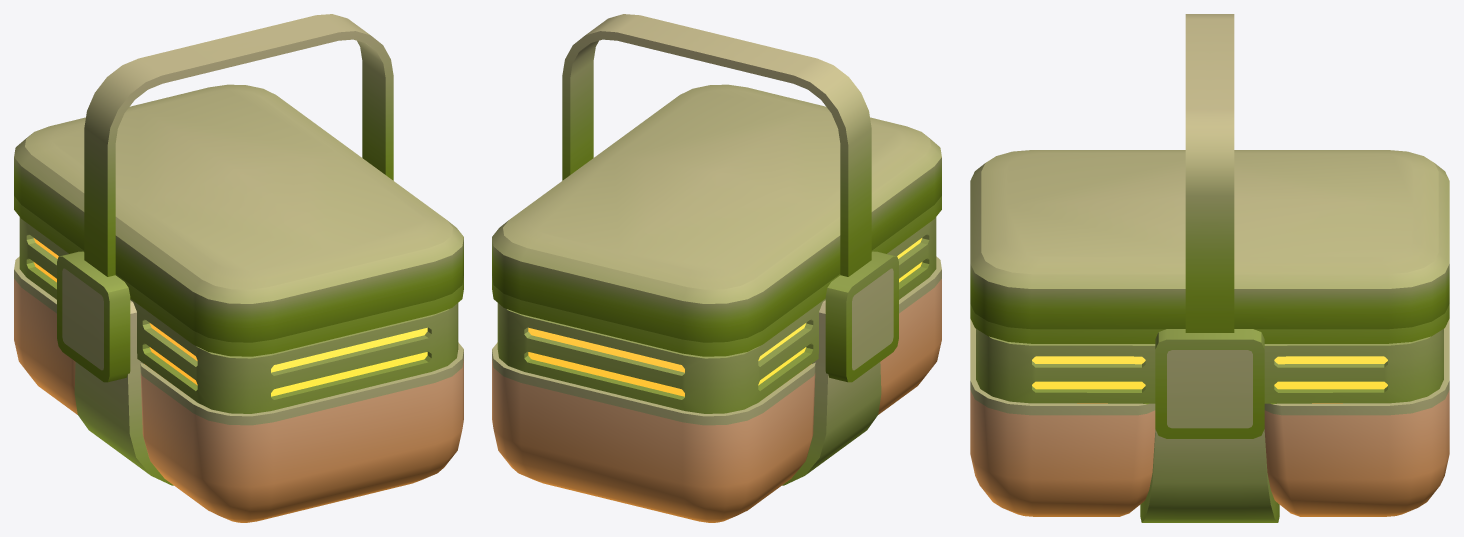
The model's file is basket_c.gltf.
3 renders of one model, left to right at view 1: azimuth 30°, elevation 25°; view 2: azimuth 150°, elevation 25°; view 3: azimuth 270°, elevation 25°, orthographic. The views are drawn at different scales.
Visible parts, largest first — view 1: basket_c; view 2: basket_c; view 3: basket_c.
Boxes of the visible parts, bbox=[...] form: basket_c: bbox=[14, 14, 463, 522]; basket_c: bbox=[492, 14, 941, 522]; basket_c: bbox=[970, 14, 1449, 522].
Bounding box in the file's own units: 0.6706 × 0.8159 × 0.8589.
Materials: 4 (4 with a texture image).
